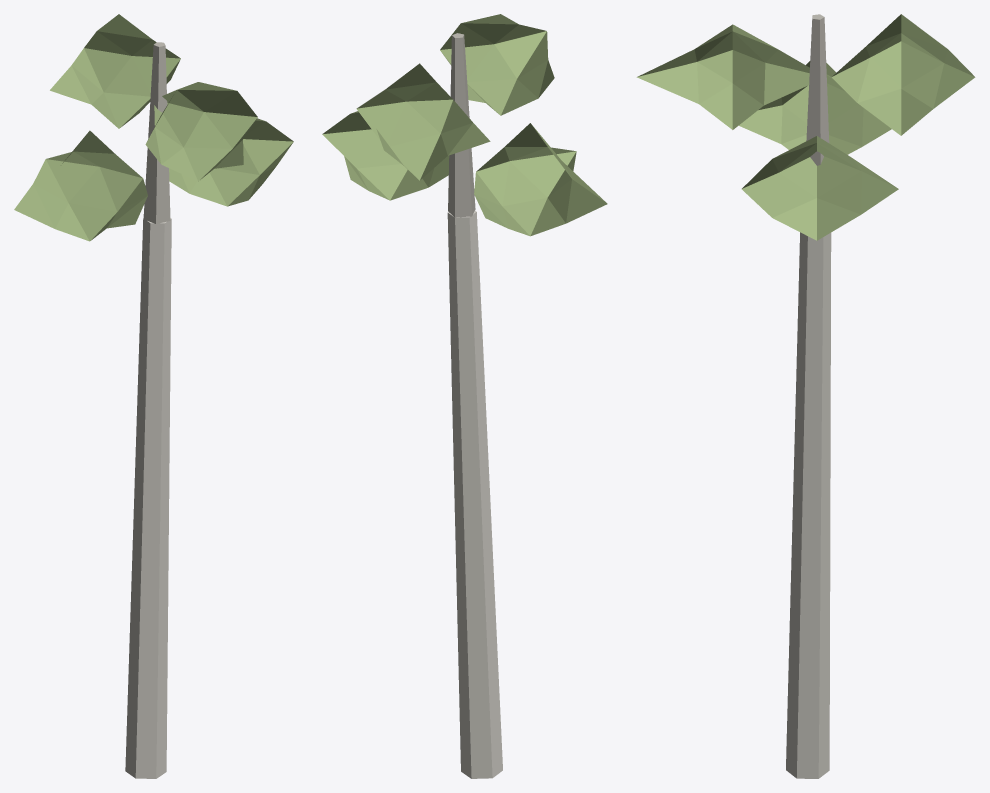
File: birch_v18.glb
The picture shows the model from 3 angles, left to right: view 1: azimuth 30°, elevation 25°; view 2: azimuth 150°, elevation 25°; view 3: azimuth 270°, elevation 25°; orthographic projection. The views are drawn at different scales.
Visible parts, largest first — view 1: lod0; view 2: lod0; view 3: lod0.
Boxes of the visible parts, bbox=[...] form: lod0: bbox=[14, 14, 293, 778]; lod0: bbox=[322, 14, 607, 778]; lod0: bbox=[637, 14, 975, 778].
Size of what is drawn, in the model's own units: 2.04 by 5.02 by 2.01.
